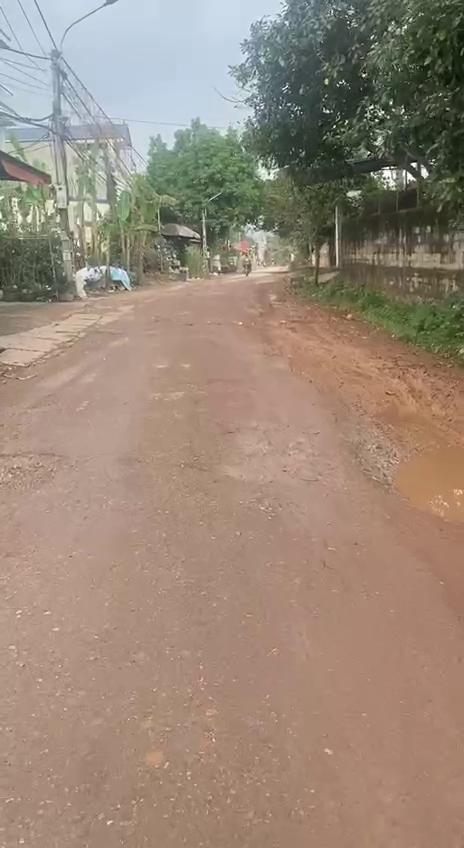pothole: (371, 442, 464, 524), (0, 444, 72, 499)
